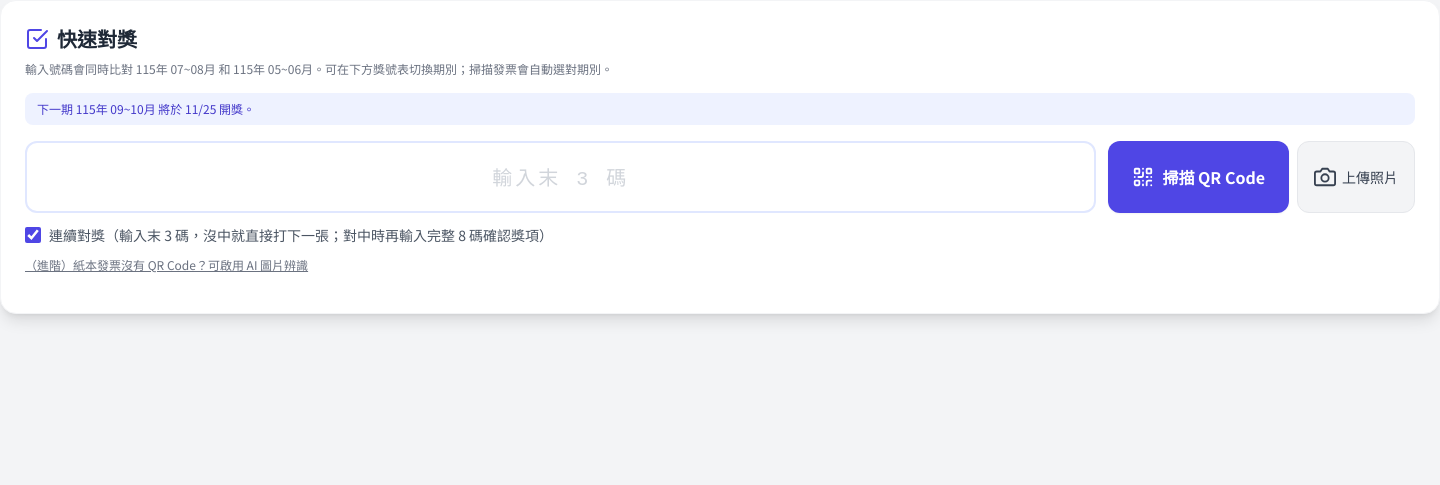
Test: 快速對獎畫面 › 只接受數字，最多 8 碼
The width and height of the screenshot is (1440, 485).
Click the checkbox labelled "連續對獎（輸入末 3 碼，沒中就直接打下一張；對中時再輸入完整 8 碼確認獎項）": (33, 235) [25,227,41,243]
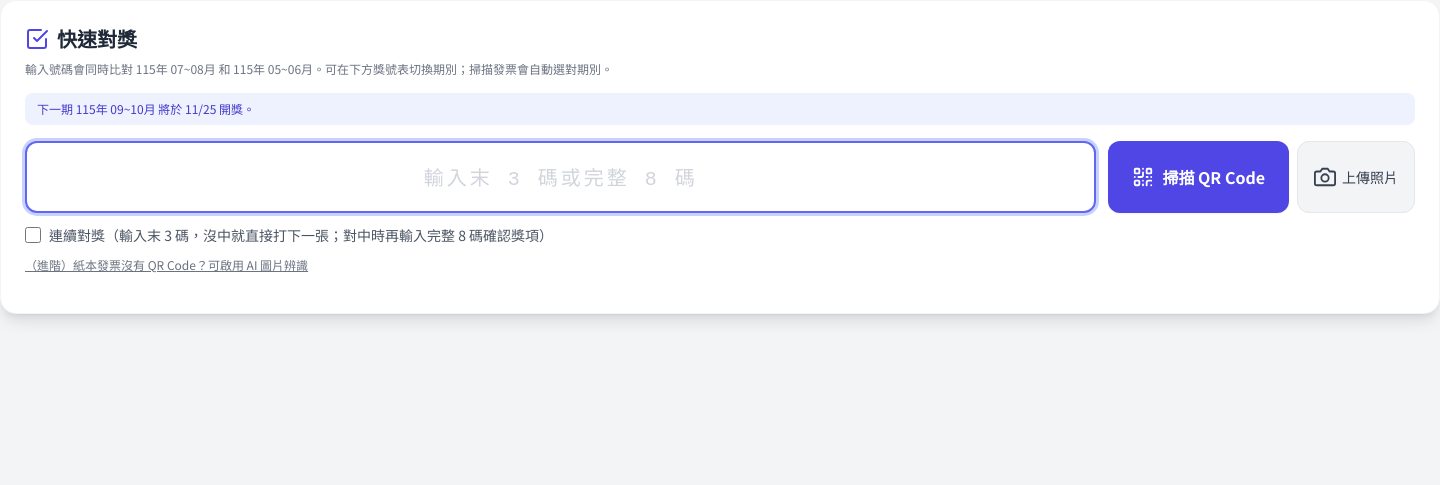
In the field named "發票號碼": (561, 177) [25,141,1096,213], type "AB-1234567890"
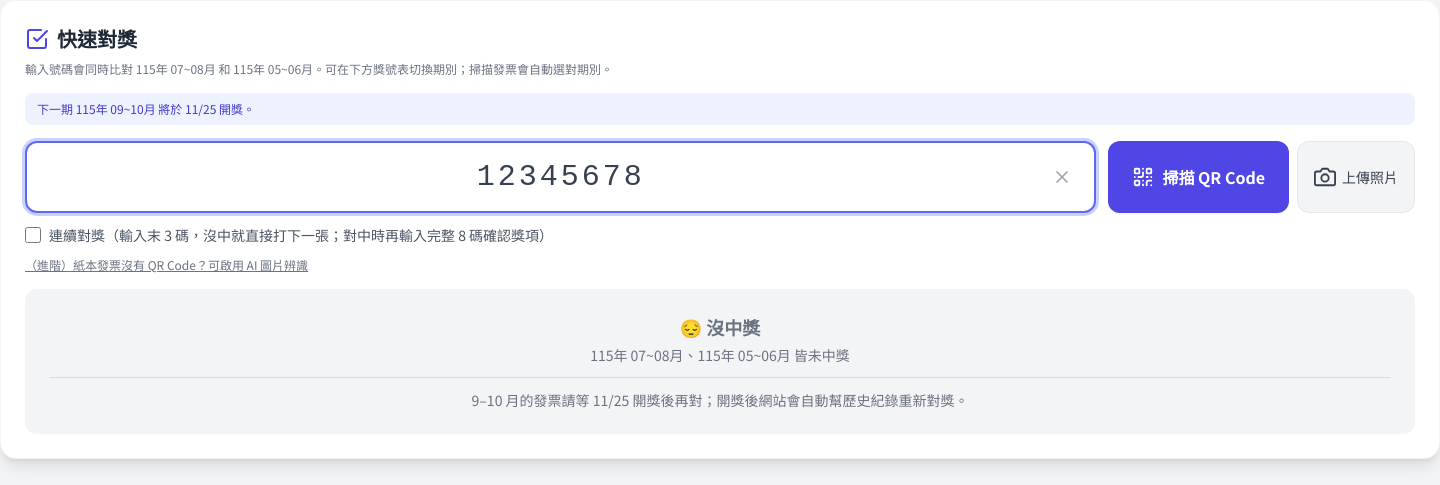
Expected: the field named "發票號碼" holds "12345678", [25,141,1096,213]
